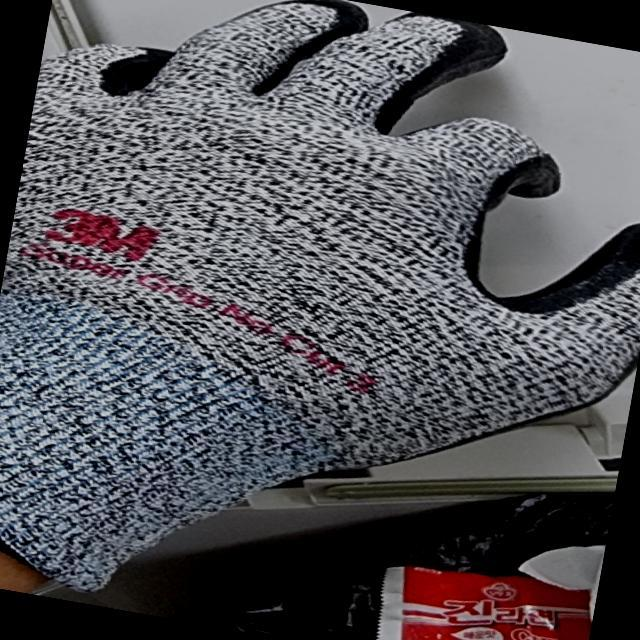Gloves: (0, 0, 638, 598)
